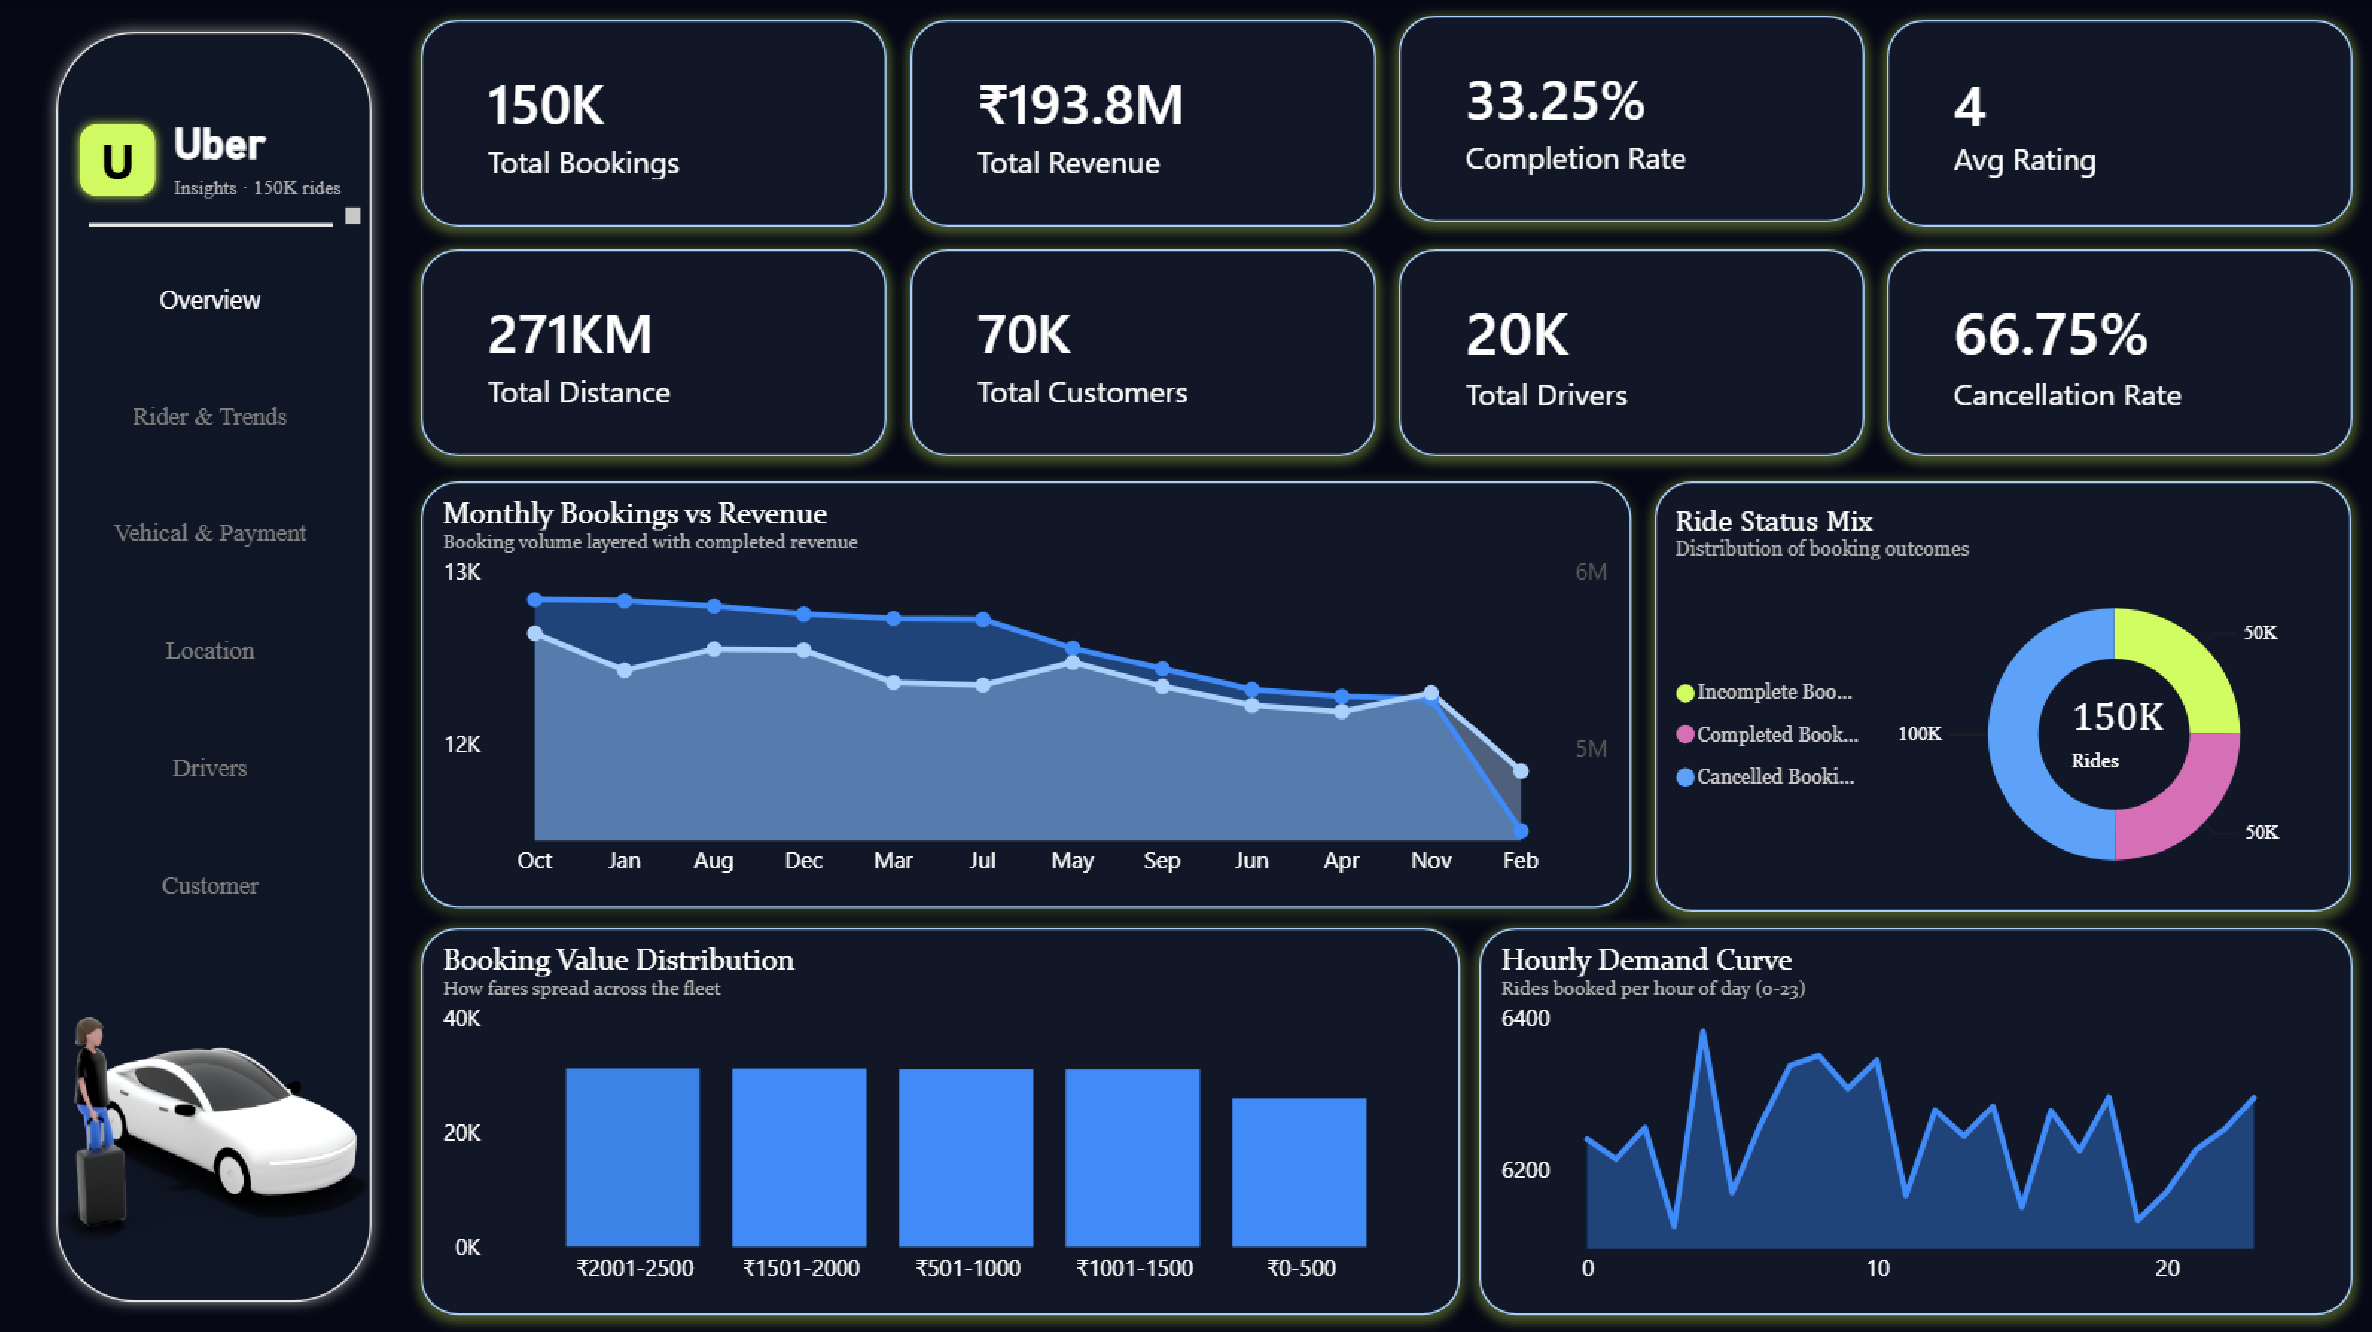

This screenshot's page, from the dashboard's own definition file:
{"tool":"powerbi","page":{"name":"Overview","canvas":[1280,720],"ordinal":0},"visuals":[{"type":"pageNavigator","box":[37.3,173.6,130,371.8],"z":0},{"type":"lineChart","title":"Monthly Bookings vs Revenue","fields":{"Category":["Booking_Transactions.Booking_Month"],"Y":["Measure.Total Bookings"],"Y2":["Measure.Completed Revenue"]},"box":[229.7,260.7,650,228.8],"z":1000},{"type":"donutChart","title":"Ride Status Mix","fields":{"Y":["Measure.Incomplete Bookings","Measure.Completed Bookings","Measure.Cancelled Bookings"]},"box":[892,260.7,374.2,230.5],"z":2000},{"type":"columnChart","title":"Booking Value Distribution","fields":{"Category":["Booking_Transactions.Booking Value Category"],"Y":["CountNonNull(Booking_Transactions.Booking_ID)"]},"box":[229.7,500.1,557.7,208.4],"z":3000},{"type":"lineChart","title":"Hourly Demand Curve","fields":{"Category":["Booking_Transactions.Booking Hour"],"Y":["Measure.Total Bookings"]},"box":[797.1,500.1,469.1,208.4],"z":4000},{"type":"shape","box":[25.7,11.5,185.3,697.8],"z":5000},{"type":"shape","box":[40.4,63,51.6,49.6],"z":6000},{"type":"textbox","title":"Uber","box":[92.2,66.5,110,61.2],"z":7000},{"type":"pageNavigator","box":[51.3,135.7,130.2,372.3],"z":8000},{"type":"shape","box":[51.3,112.4,131.2,20.4],"z":9000},{"type":"cardVisual","fields":{"Data":["Measure.Total Revenue (Cr)"]},"box":[492.1,12.4,250,110.8],"z":10000},{"type":"cardVisual","fields":{"Data":["Measure.Total Bookings"]},"box":[229.7,12.4,250,110.8],"z":11000},{"type":"cardVisual","fields":{"Data":["Measure.Completion Rate"]},"box":[754.6,10.6,250,110.8],"z":12000},{"type":"cardVisual","fields":{"Data":["Measure.Avg Rating"]},"box":[1016.2,12.4,250,110.8],"z":13000},{"type":"cardVisual","fields":{"Data":["Measure.Cancellation Rate"]},"box":[1016.2,135.7,250,110.8],"z":14000},{"type":"cardVisual","fields":{"Data":["Measure.Total Drivers"]},"box":[754.6,135.7,250,110.8],"z":15000},{"type":"cardVisual","fields":{"Data":["Measure.Total Customers"]},"box":[492.1,135.7,250,110.8],"z":16000},{"type":"cardVisual","fields":{"Data":["Measure.Total Distance"]},"box":[229.7,135.7,250,110.8],"z":17000},{"type":"image","box":[13,498,218,202],"z":22000},{"type":"cardVisual","fields":{"Data":["Measure.Rides"]},"box":[1086.6,345.3,166.1,106.3],"z":23000}]}

Visuals, with their boxes in screenshot pixels (x1, y1, x2, y2), scaled from the page's 1280x720 canvas onto the 2372x1332 screenshot:
pageNavigator: [left=69, top=321, right=310, bottom=1009]
"Monthly Bookings vs Revenue" lineChart: [left=426, top=482, right=1630, bottom=906]
"Ride Status Mix" donutChart: [left=1653, top=482, right=2346, bottom=909]
"Booking Value Distribution" columnChart: [left=426, top=925, right=1459, bottom=1311]
"Hourly Demand Curve" lineChart: [left=1477, top=925, right=2346, bottom=1311]
shape: [left=48, top=21, right=391, bottom=1312]
shape: [left=75, top=117, right=170, bottom=208]
"Uber" textbox: [left=171, top=123, right=375, bottom=236]
pageNavigator: [left=95, top=251, right=336, bottom=940]
shape: [left=95, top=208, right=338, bottom=246]
cardVisual - Measure.Total Revenue (Cr): [left=912, top=23, right=1375, bottom=228]
cardVisual - Measure.Total Bookings: [left=426, top=23, right=889, bottom=228]
cardVisual - Measure.Completion Rate: [left=1398, top=20, right=1862, bottom=225]
cardVisual - Measure.Avg Rating: [left=1883, top=23, right=2346, bottom=228]
cardVisual - Measure.Cancellation Rate: [left=1883, top=251, right=2346, bottom=456]
cardVisual - Measure.Total Drivers: [left=1398, top=251, right=1862, bottom=456]
cardVisual - Measure.Total Customers: [left=912, top=251, right=1375, bottom=456]
cardVisual - Measure.Total Distance: [left=426, top=251, right=889, bottom=456]
image: [left=24, top=921, right=428, bottom=1295]
cardVisual - Measure.Rides: [left=2014, top=639, right=2321, bottom=835]
